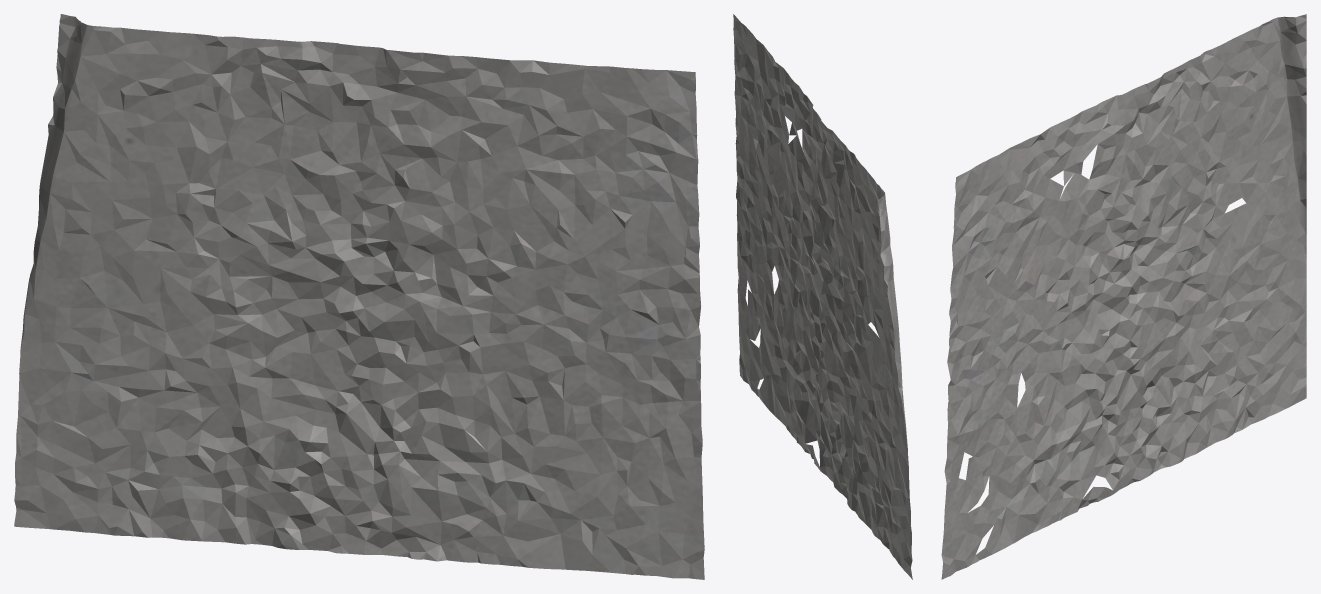
3 renders of one model, left to right at view 1: azimuth 30°, elevation 25°; view 2: azimuth 150°, elevation 25°; view 3: azimuth 270°, elevation 25°, orthographic. The views are drawn at different scales.
Bounding box in the file's own units: 0.8097 × 0.8374 × 0.688.
Materials: 3 (3 with a texture image).
